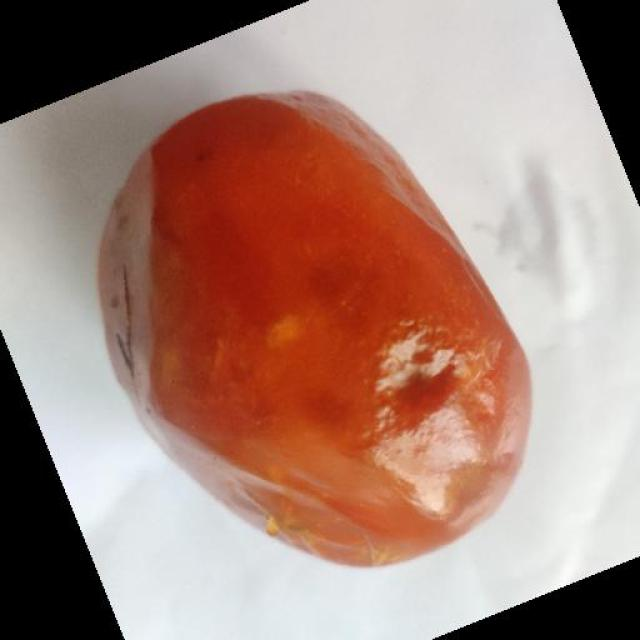Stale_tomato: (89, 81, 524, 554)
